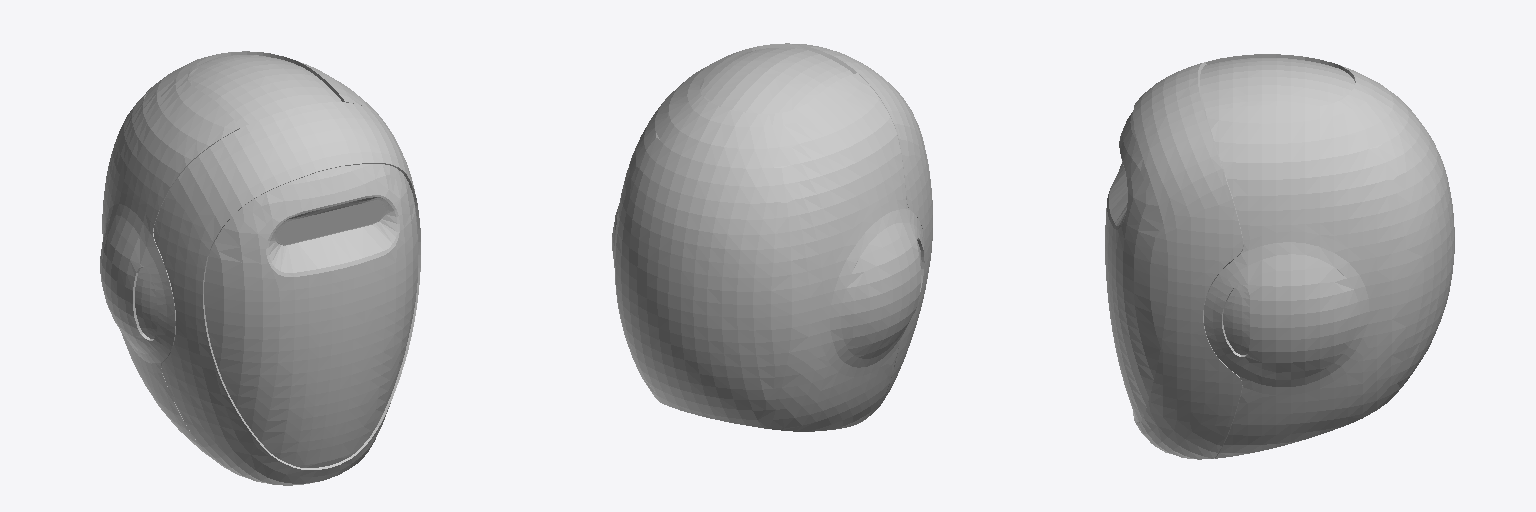
Rendered from head.obj.
The picture shows the model from 3 angles: view 1: azimuth 30°, elevation 25°; view 2: azimuth 150°, elevation 25°; view 3: azimuth 270°, elevation 25°; orthographic projection.
Parts seen in each view (by area): view 1: TurtleDefaultBakeLayer head; view 2: TurtleDefaultBakeLayer head; view 3: TurtleDefaultBakeLayer head.
Part boxes in pixels (bbox=[...]): TurtleDefaultBakeLayer head: bbox=[100, 51, 420, 485]; TurtleDefaultBakeLayer head: bbox=[612, 43, 932, 431]; TurtleDefaultBakeLayer head: bbox=[1105, 54, 1454, 459].
Size of the model in its own units: 0.2167 by 0.2738 by 0.2334.